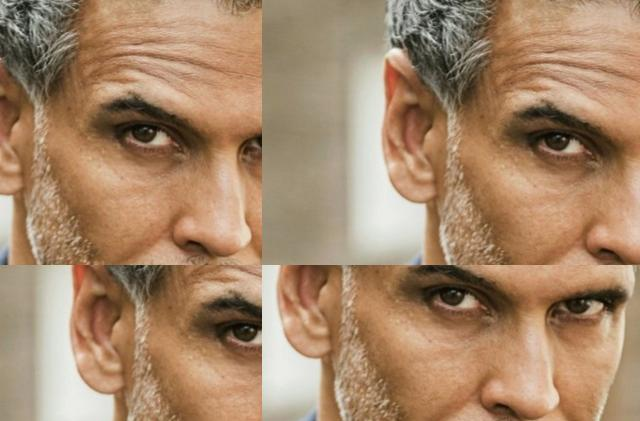crows_feet: (542, 106, 578, 132), (95, 320, 114, 340), (221, 320, 237, 338)
forehead: (138, 265, 206, 283), (611, 49, 640, 83)
gummy_smile: (570, 166, 610, 205), (205, 361, 227, 395), (110, 366, 132, 394), (44, 244, 60, 265), (112, 247, 128, 265)
sad_smile: (553, 227, 580, 265)
smoker_lines: (82, 259, 93, 265)
